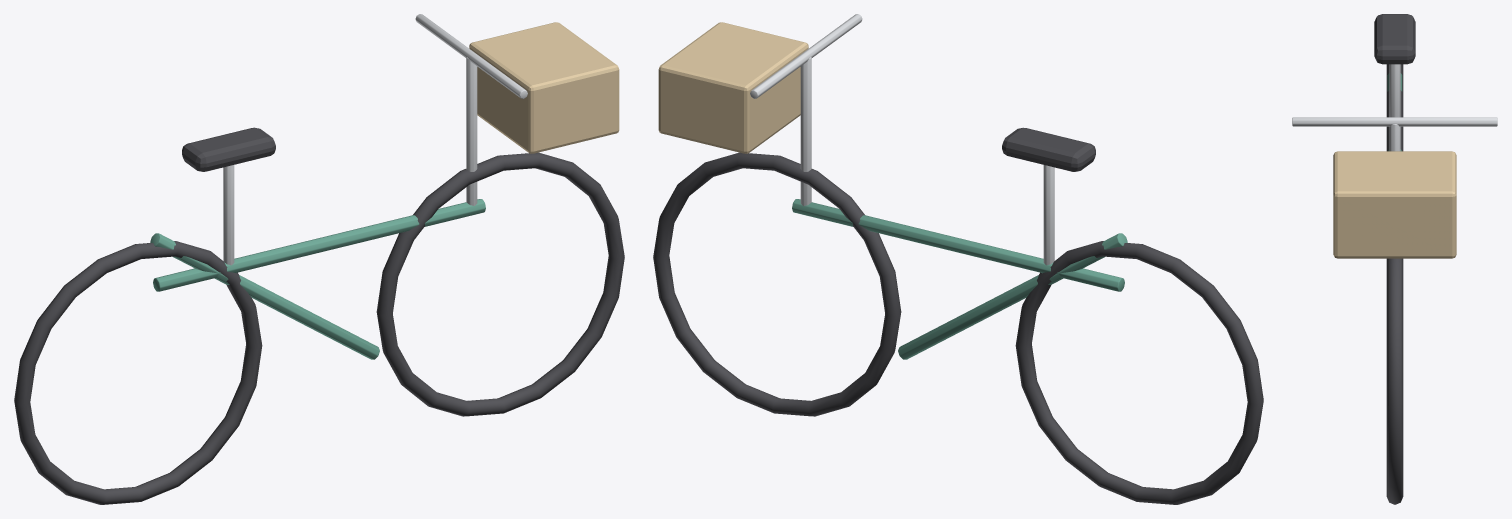
Rendered from v2_bicycle.fbx.
3 renders of one model, left to right at view 1: azimuth 30°, elevation 25°; view 2: azimuth 150°, elevation 25°; view 3: azimuth 270°, elevation 25°, orthographic.
Parts seen in each view (by area): view 1: Basket, Wheel.001, Wheel, Frame1, Frame2, Seat.001, Stem, Bars, Seatpost; view 2: Basket, Wheel.001, Wheel, Frame1, Frame2, Seat.001, Stem, Bars, Seatpost; view 3: Basket, Wheel.001, Seat.001, Bars, Seatpost, Wheel, Stem.
Part boxes in pixels (x1,y1,x2,y2): Basket: (469, 22, 619, 153); Wheel.001: (376, 152, 624, 416); Wheel: (14, 241, 262, 504); Frame1: (153, 199, 485, 291); Frame2: (150, 233, 379, 359); Seat.001: (182, 127, 275, 171); Stem: (466, 57, 477, 205); Bars: (415, 14, 527, 98); Seatpost: (223, 165, 234, 265); Basket: (658, 22, 808, 153); Wheel.001: (653, 152, 901, 416); Wheel: (1015, 241, 1263, 504); Frame1: (792, 199, 1124, 291); Frame2: (898, 233, 1127, 359); Seat.001: (1002, 127, 1095, 171); Stem: (800, 57, 811, 205); Bars: (750, 14, 862, 98); Seatpost: (1043, 165, 1054, 265); Basket: (1333, 151, 1456, 258); Wheel.001: (1386, 258, 1403, 504); Seat.001: (1374, 14, 1415, 64); Bars: (1292, 117, 1497, 126); Seatpost: (1389, 64, 1400, 117); Wheel: (1386, 64, 1403, 151); Stem: (1389, 124, 1400, 151).
Size of the model in its own units: 1.68 by 0.9717 by 0.5.
